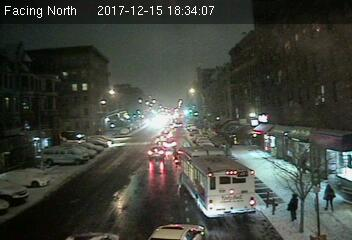bus: (178, 144, 257, 218)
car: (148, 222, 206, 240), (147, 146, 166, 157)
pedestrian: (321, 182, 336, 213), (288, 190, 300, 222)
